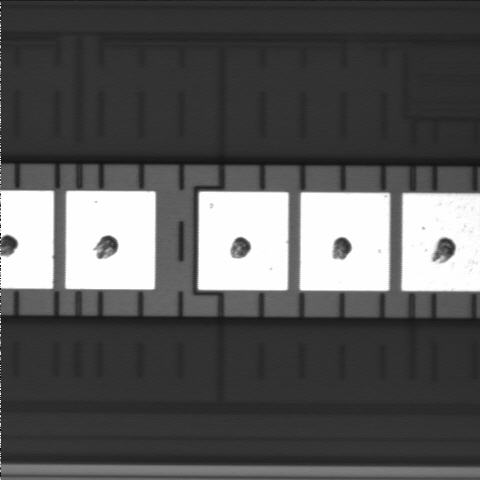pad: (300, 192, 390, 291), (65, 191, 155, 289), (198, 192, 288, 290)
